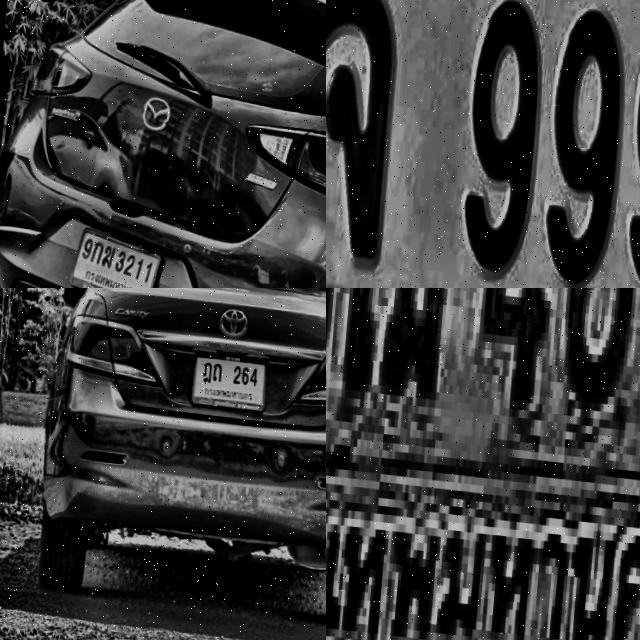license-plate: (326, 288, 640, 640), (326, 0, 640, 288), (62, 216, 166, 288), (181, 344, 272, 423)
